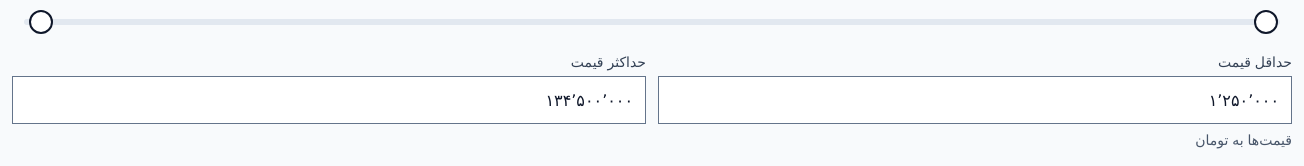
PriceRange inputs › commits a typed price on blur, never while typing, reading Persian digits
Step 1. Replace the text in the field labelled "حداقل قیمت" with "۲۰۰۰۰۰۰" → [975, 100], box [659, 77, 1291, 123]
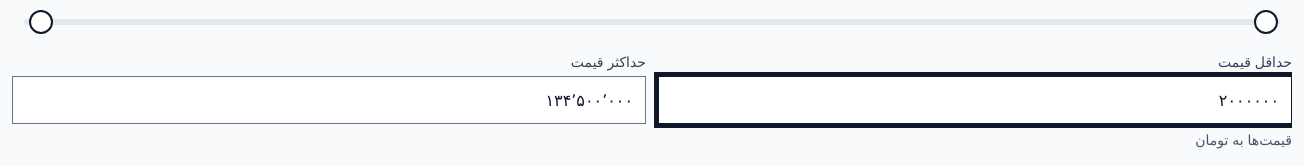
Step 2. Press Tab
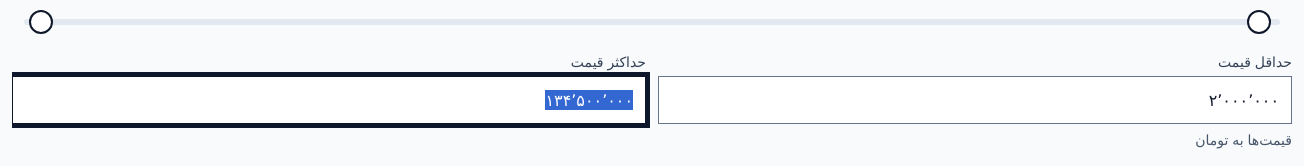
Now the field labelled "حداقل قیمت" holds "۲٬۰۰۰٬۰۰۰", box [659, 77, 1291, 123]
